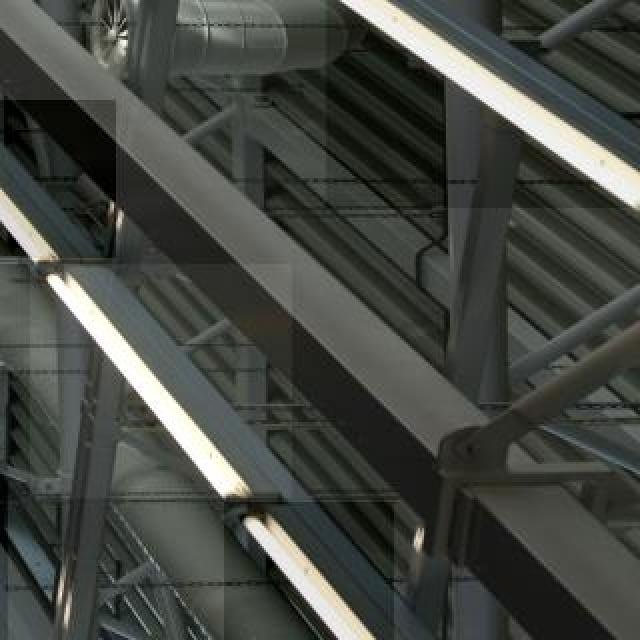fluorescent tube: (318, 0, 640, 226), (23, 271, 261, 525), (228, 503, 388, 640), (0, 98, 80, 284), (0, 452, 12, 640)
